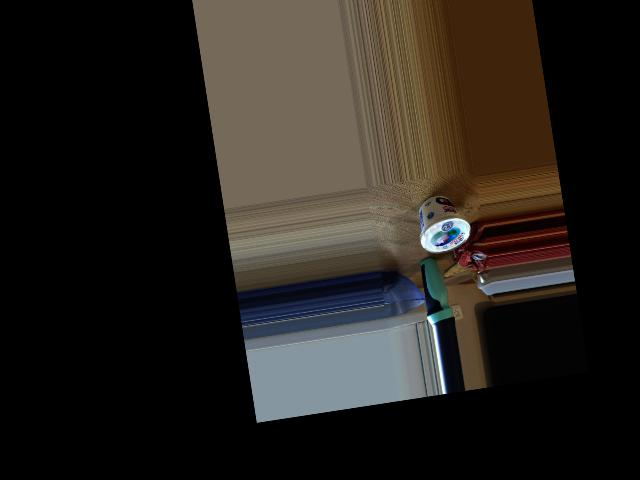cotage: (410, 190, 465, 260)
